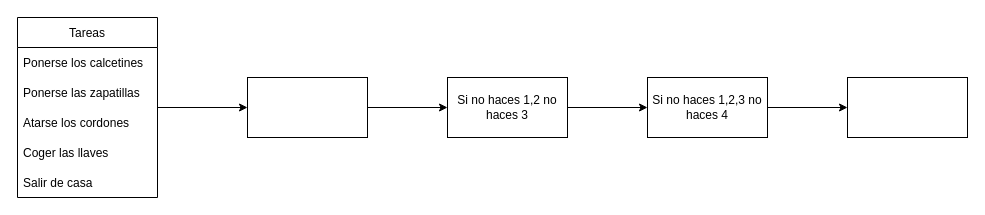
This 985x215 diagram has some shape labels left out. The box of each missing label's shape, as (x1, y1, x2, y2) in pixels:
Si no haces 1, no haces 2: (246, 76, 368, 138)
Si no haces 1,2,3,4 no haces 5: (846, 76, 968, 138)
